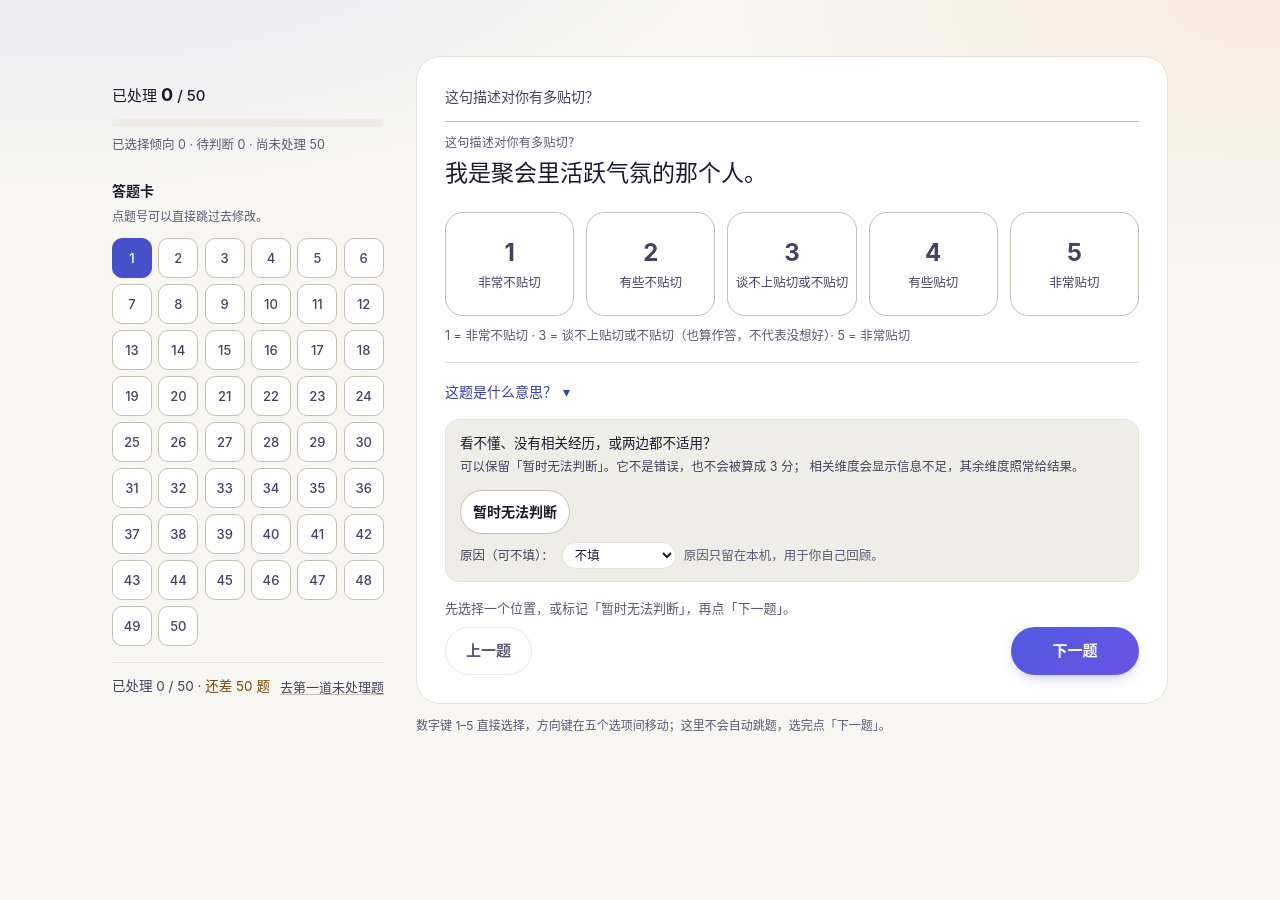
答题页（产品方案 §3.2 / §3.3） › 帮助展开不改变答案或分数：未作答时展开后仍为空、已处理仍为 0
The image size is (1280, 900).
Click the button "这题是什么意思？ ▾".
click(508, 392)  # box [445, 380, 570, 404]
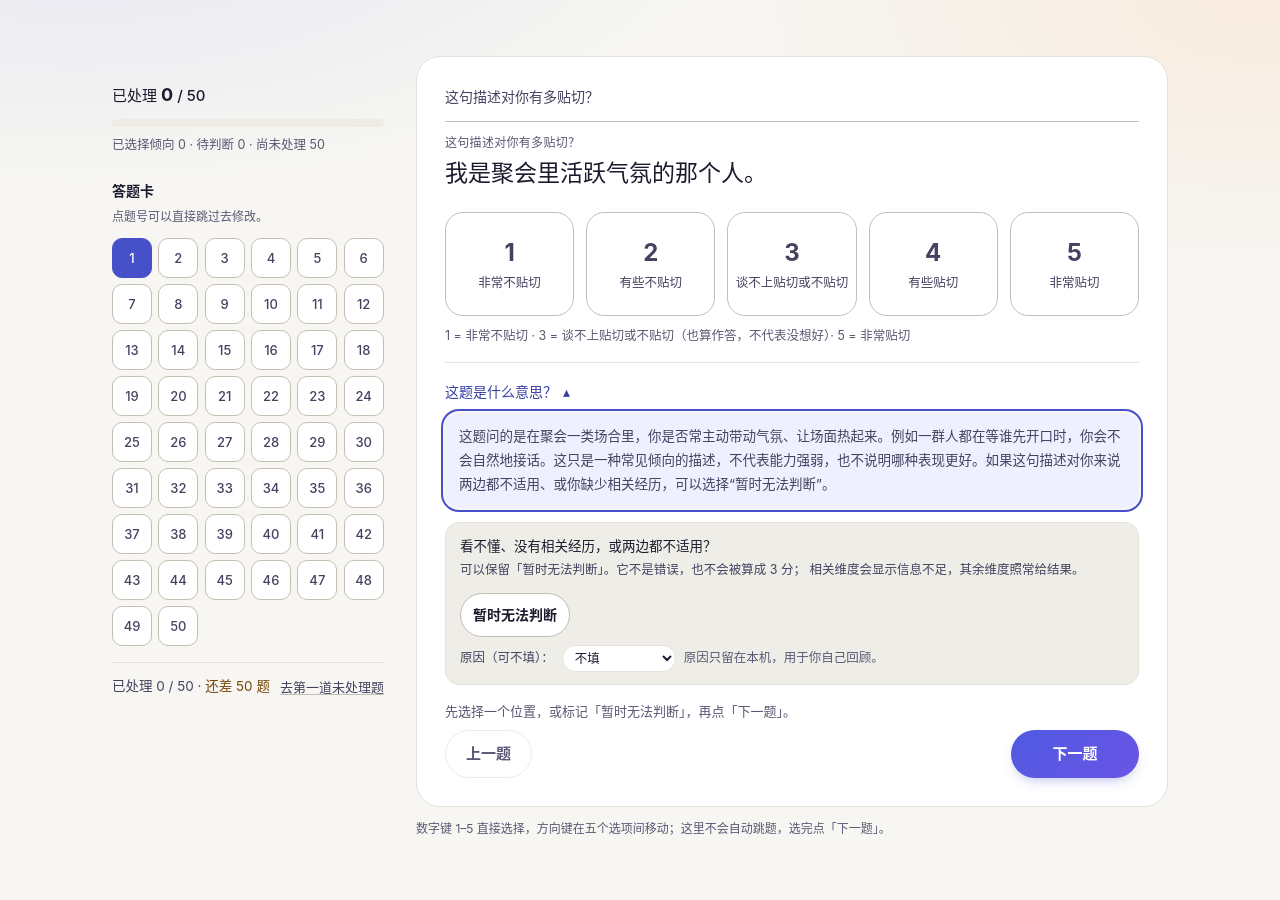
Check: the button "这题是什么意思？ ▴" is expanded, box [445, 380, 570, 404]
Check: the text "这题问的是在聚会一类场合里，你是否常主动带动气氛、让场面热起来。例如一群人都在等谁先开口时，你会不会自然地接话。这只是一种常见倾向的描述，不代表能力强弱，也不说明哪种表现更好。如果这句描述对你来说两边都不适用、或你缺少相关经历，可以选择“暂时无法判断”。" is shown, box [459, 428, 1120, 492]
